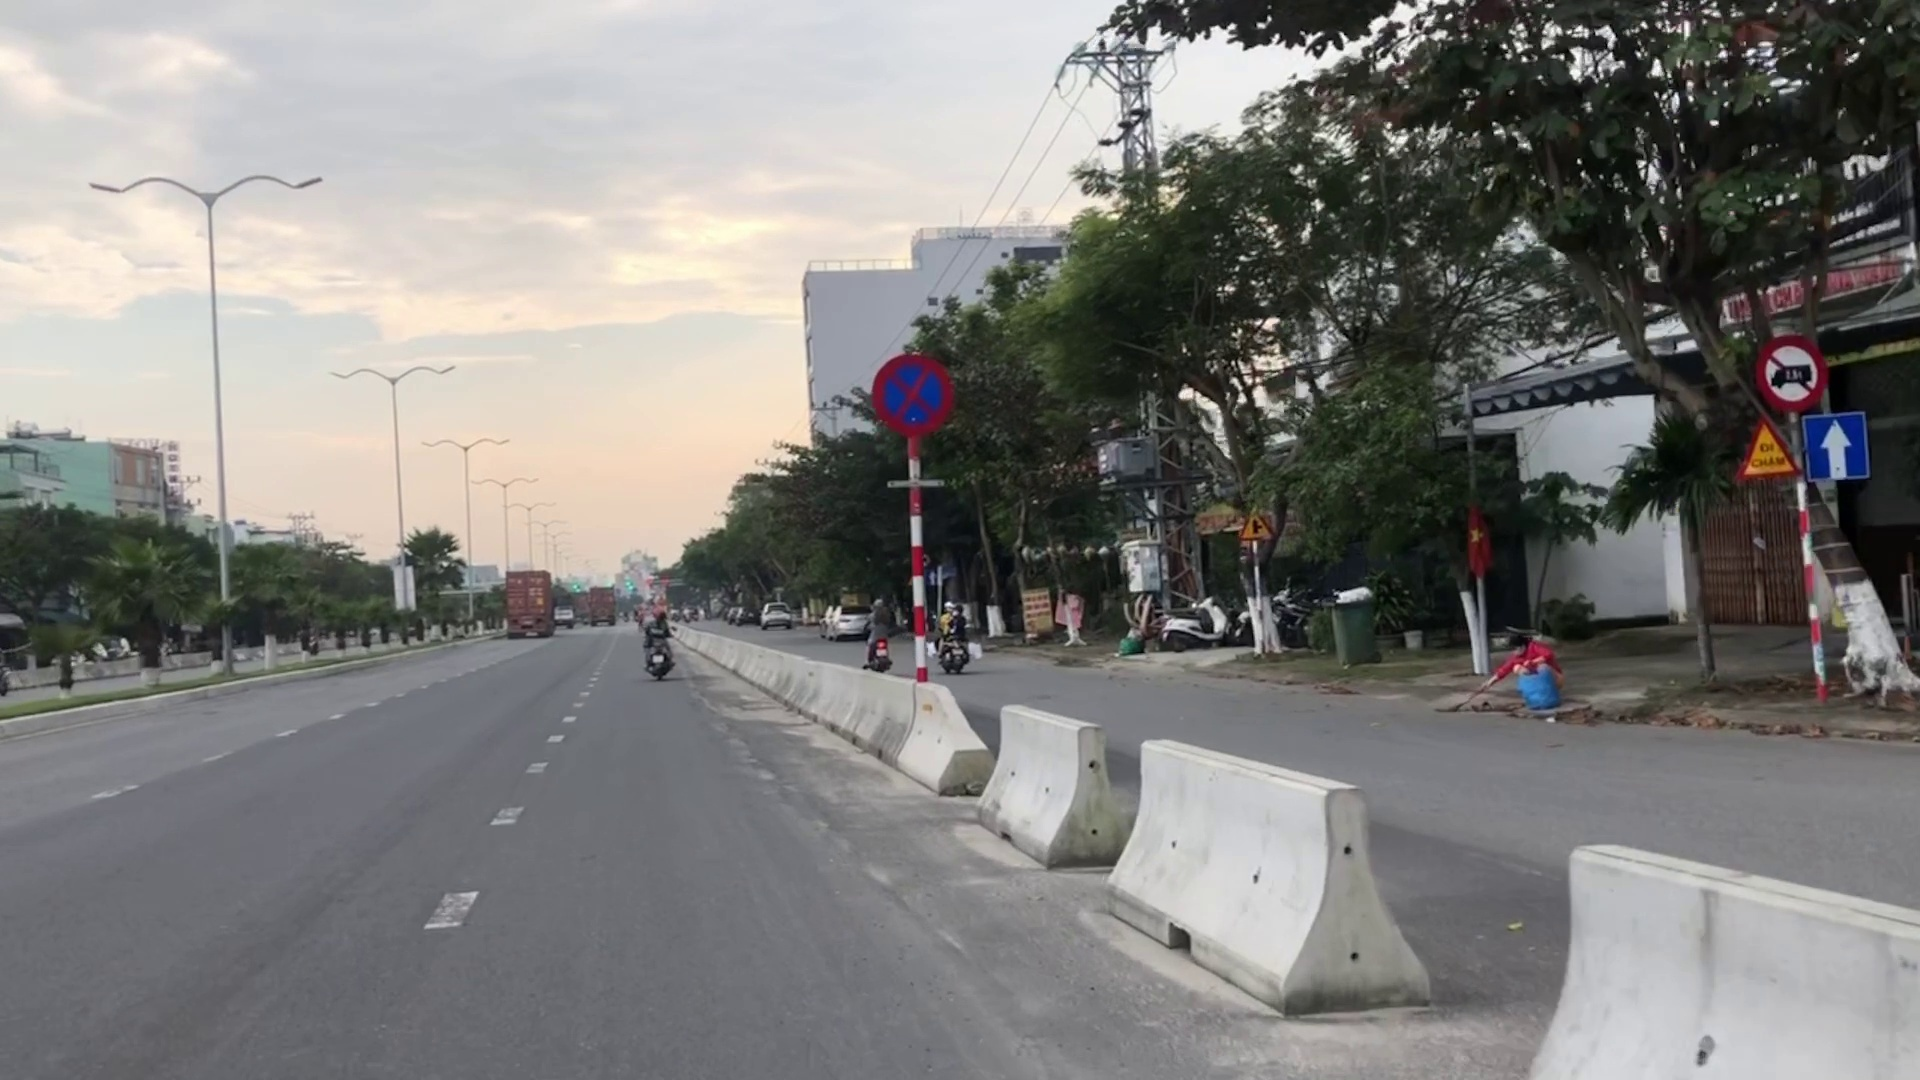Bien khac: (874, 349, 949, 439), (1753, 334, 1826, 411)
Giao nhau voi duong khong uu tien: (1233, 502, 1275, 545)
